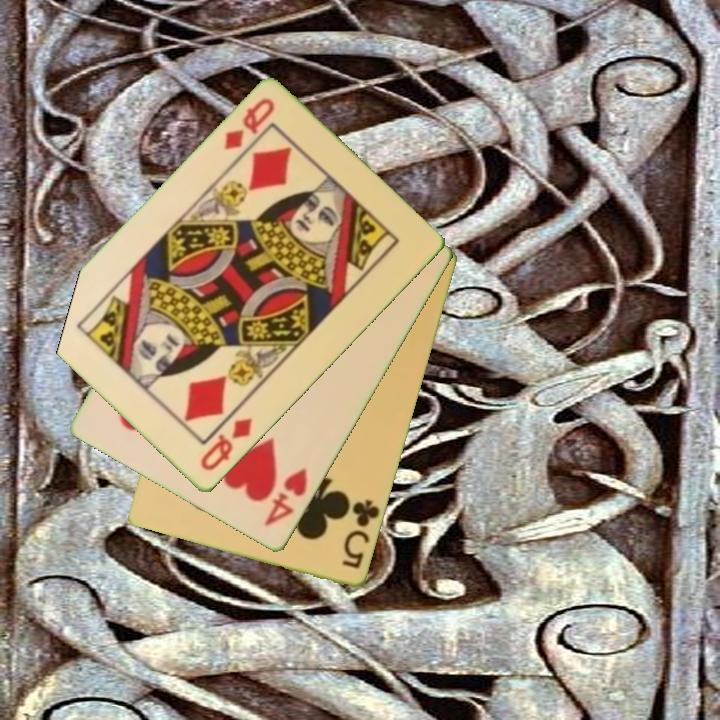4h: (261, 465, 311, 530)
5c: (339, 496, 383, 572)
Qd: (196, 415, 255, 475), (220, 95, 278, 155)
